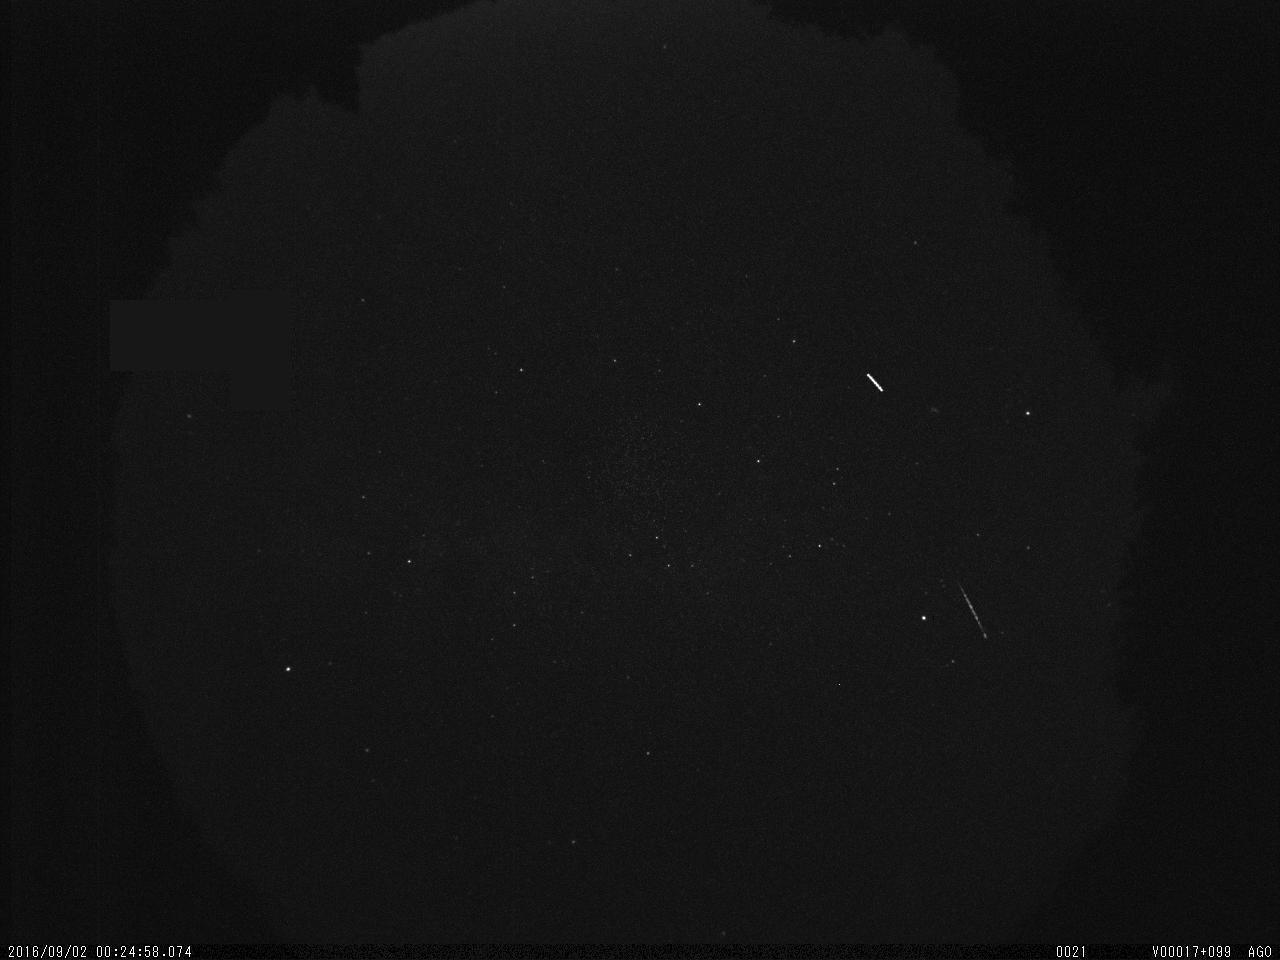Meteor: (956, 580, 994, 644)
